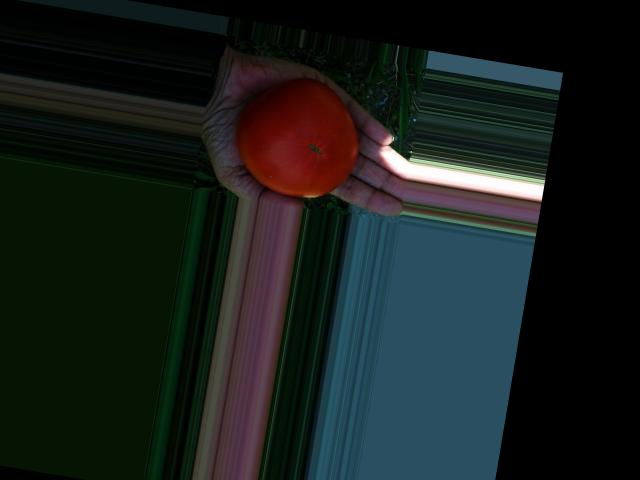tomato: (229, 67, 368, 205)
